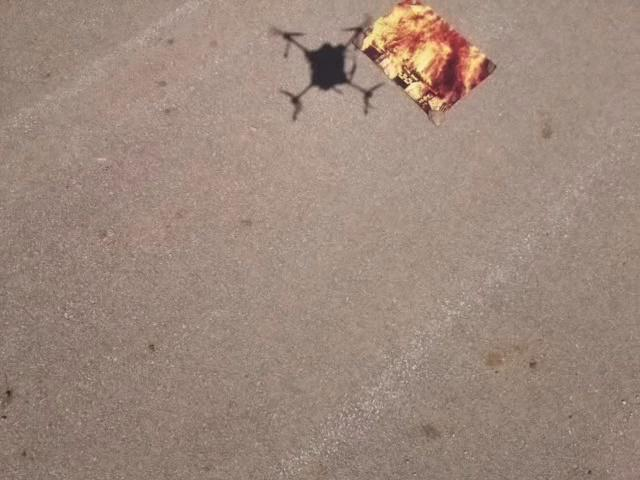fire-poster: (355, 0, 498, 127)
